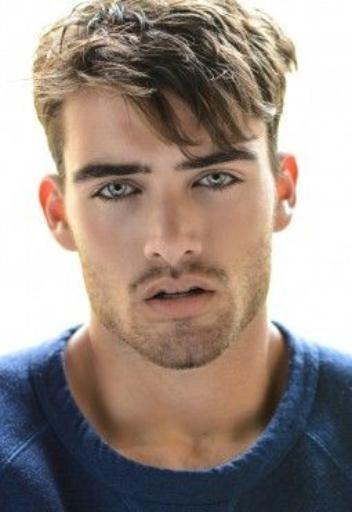left_eye: (189, 169, 246, 196)
left_lip_corner: (203, 284, 223, 305)
right_eye: (90, 179, 147, 206)
right_lip_corner: (137, 291, 157, 311)
